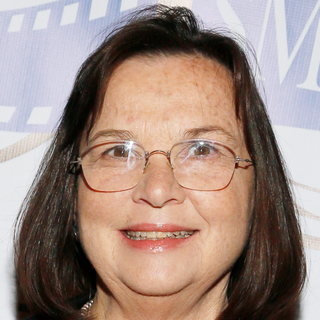eye: (176, 138, 222, 166), (95, 139, 140, 167)
